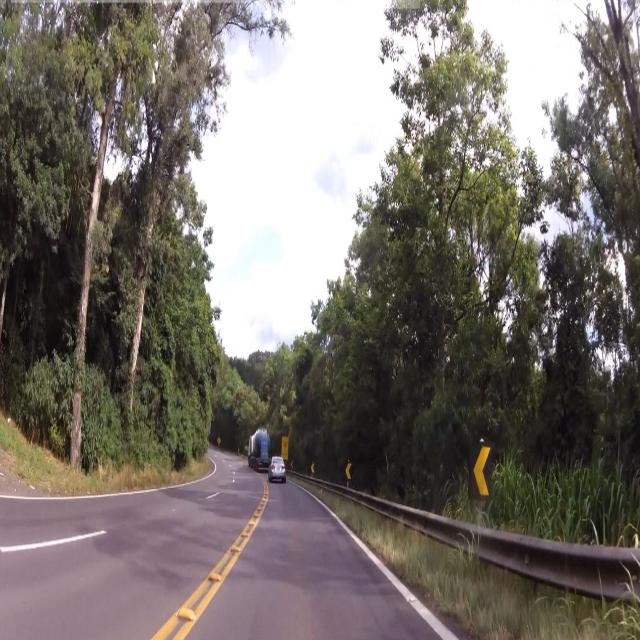Del: (466, 437, 494, 504), (344, 458, 356, 482)
